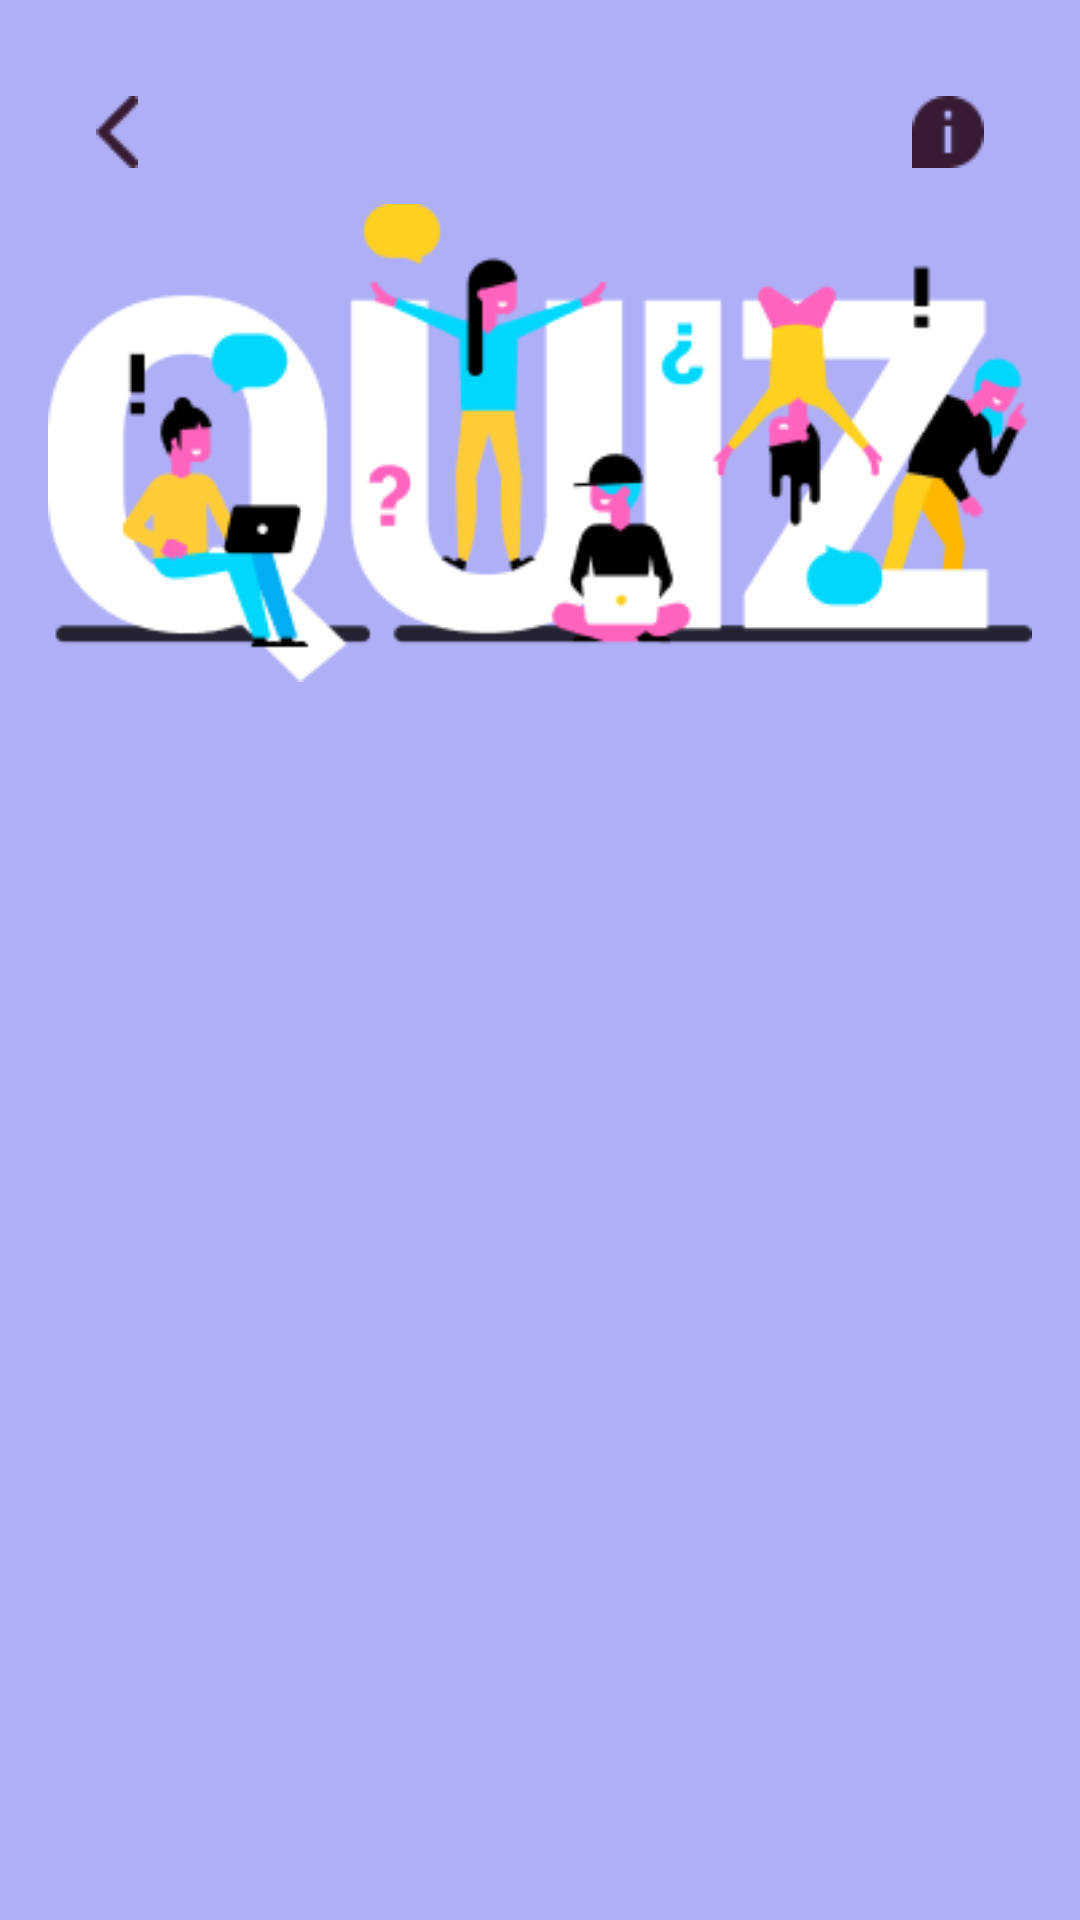

Named icons in this screenshot (1080×1920) and their centers, [x,y]:
back: [117,132]
info: [948,132]
